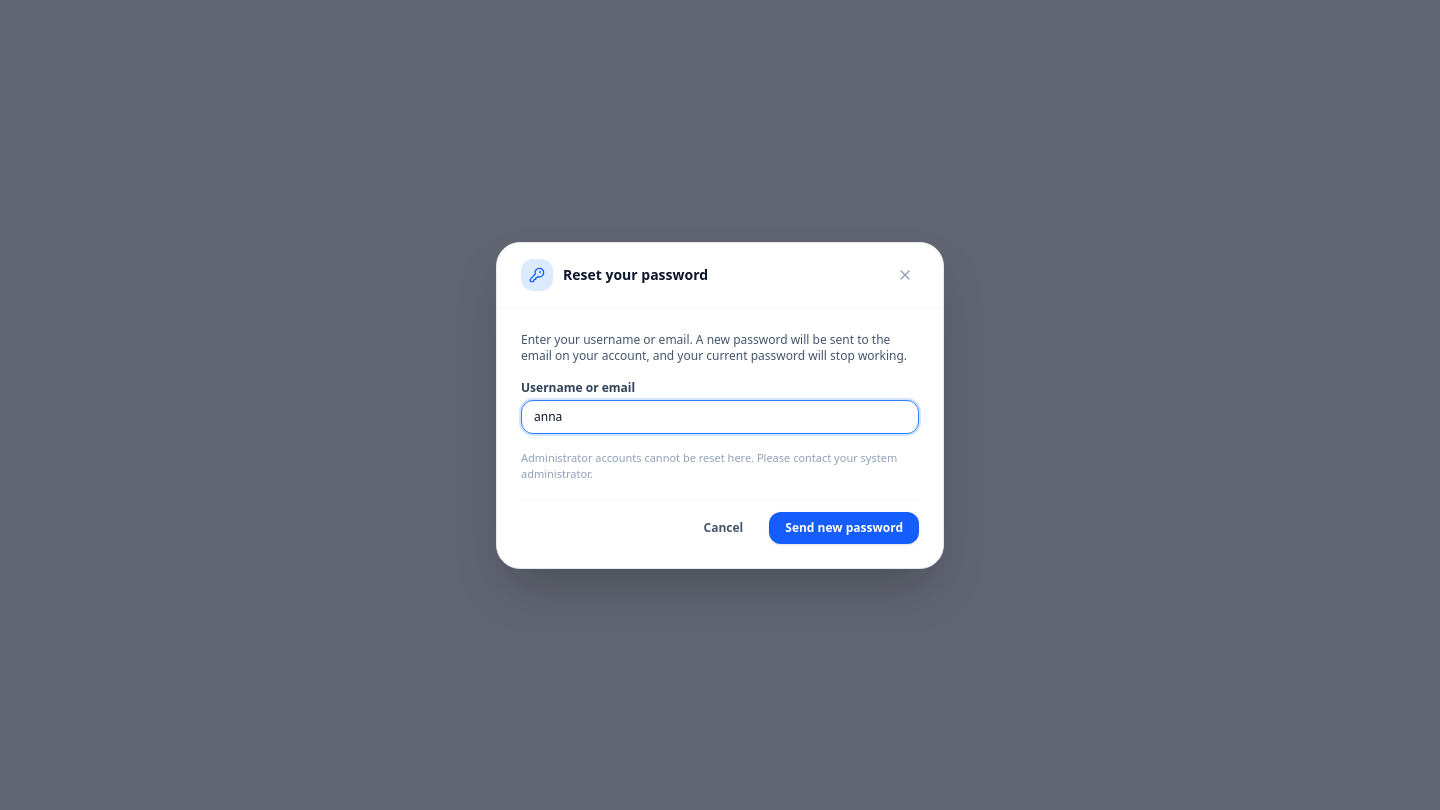
Test: shows request errors
The width and height of the screenshot is (1440, 810).
Click the button "Send new password".
click(844, 528)  # box [769,512,919,544]
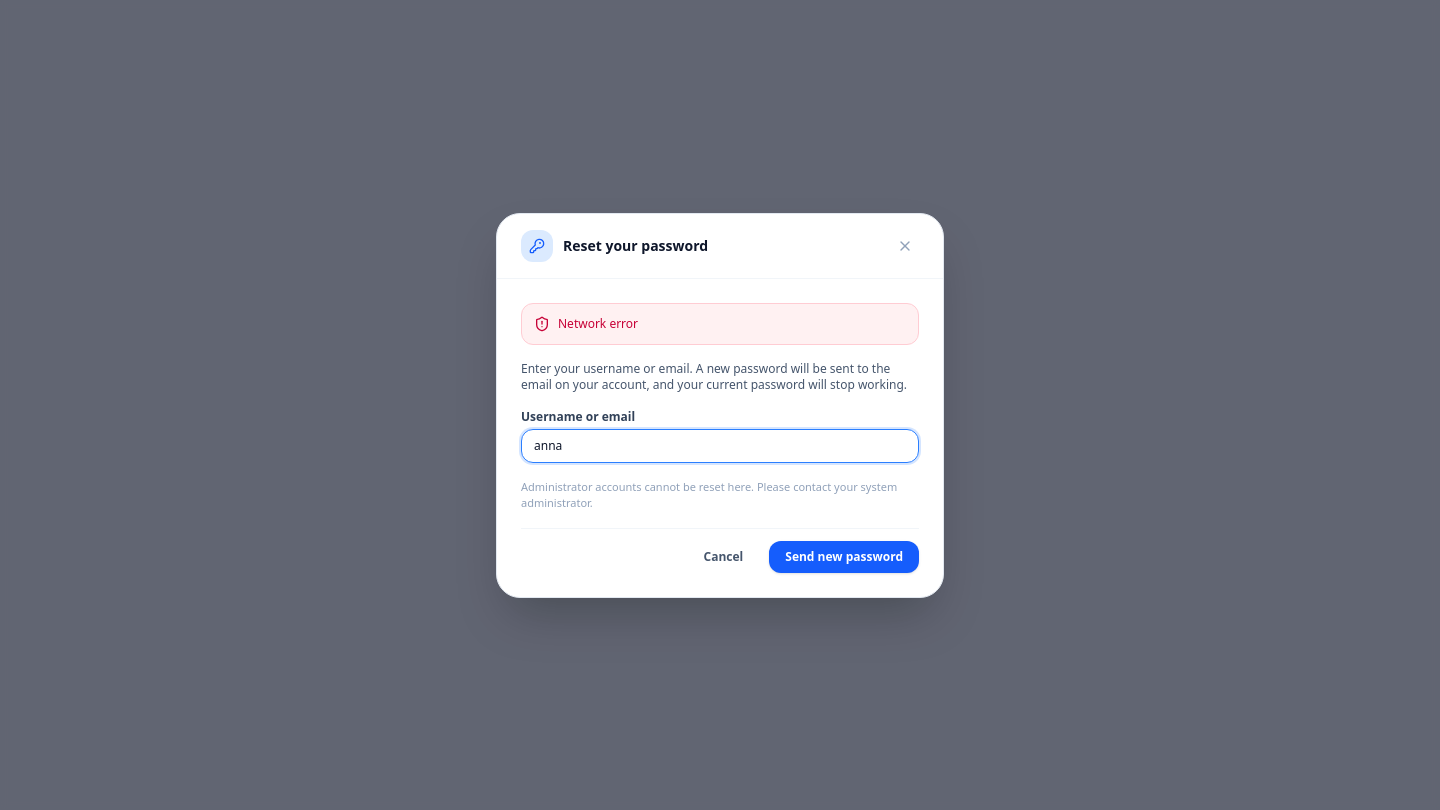
Expected: the text "Network error" is shown, [558,316,638,332]
